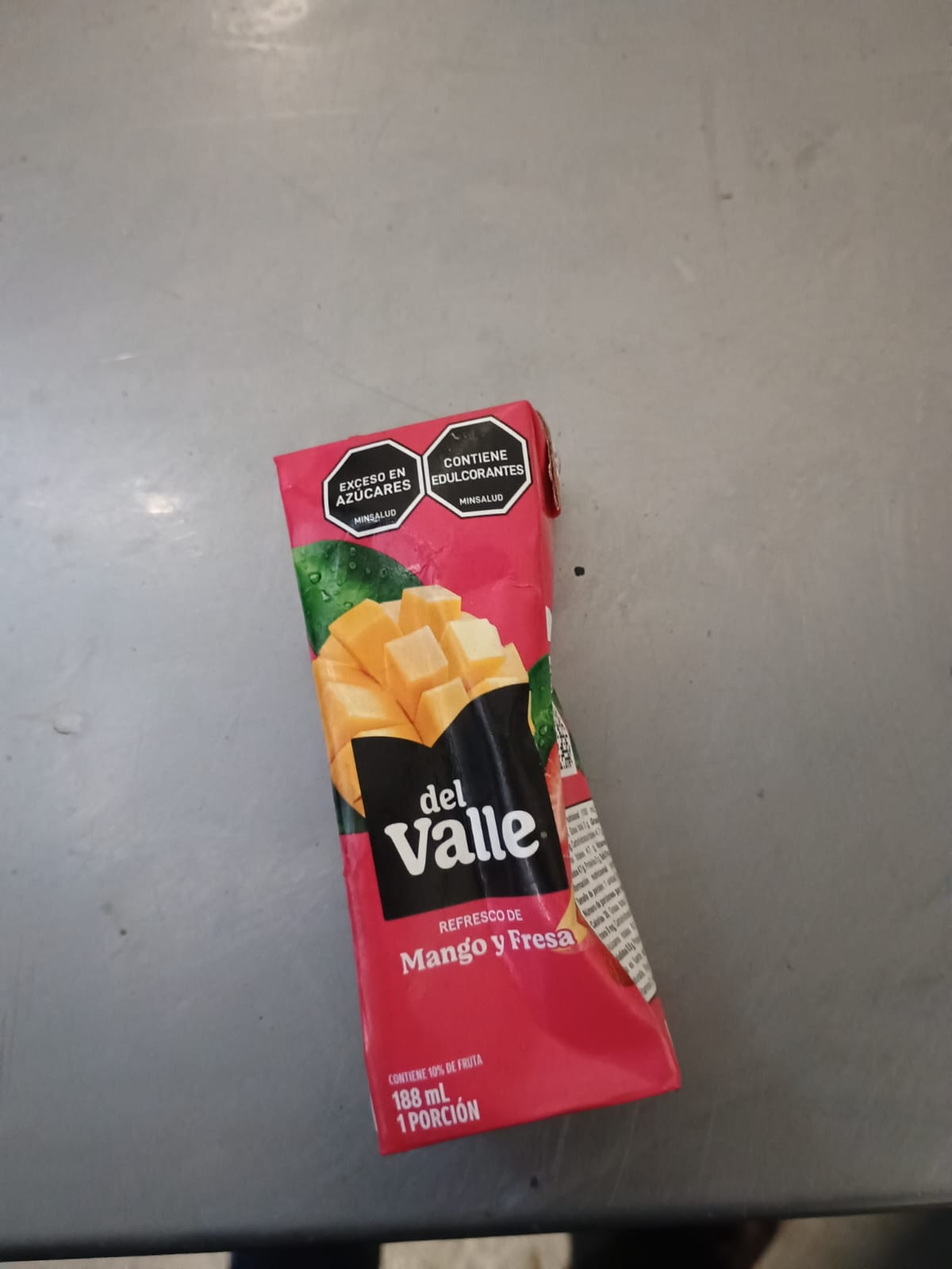Carton: (273, 402, 685, 1154)
